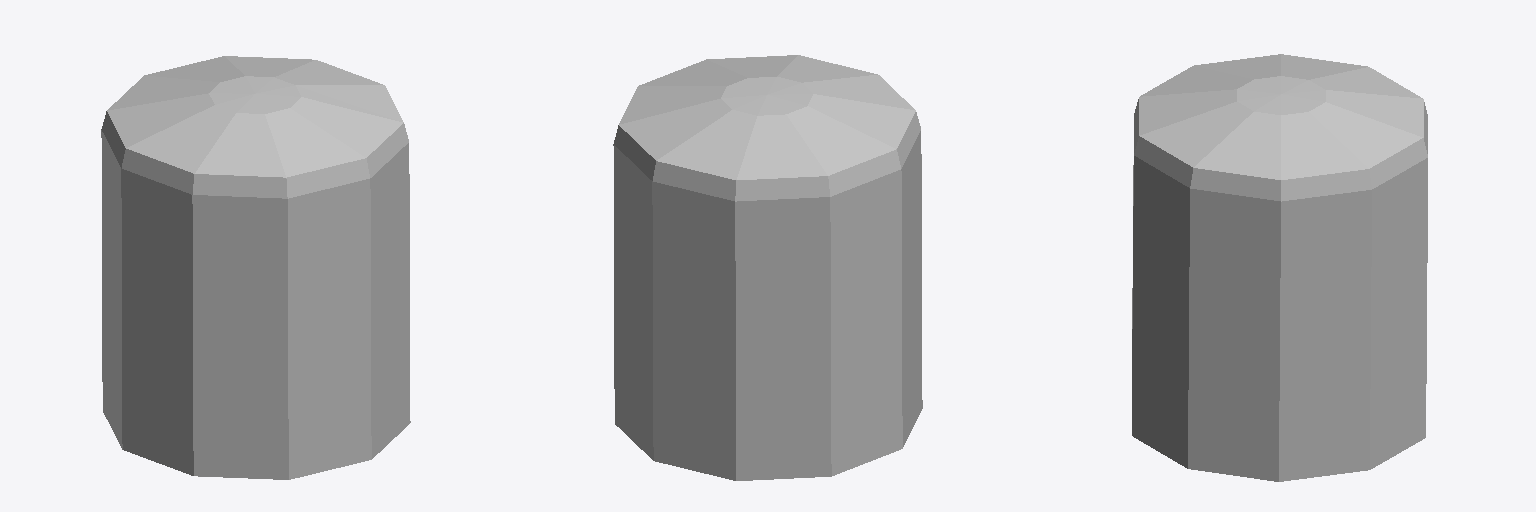
File: crystal_controller_right_button4.obj
3 renders of one model, left to right at view 1: azimuth 30°, elevation 25°; view 2: azimuth 150°, elevation 25°; view 3: azimuth 270°, elevation 25°, orthographic.
Visible parts, largest first — view 1: crystal_controller_right_button4; view 2: crystal_controller_right_button4; view 3: crystal_controller_right_button4.
Boxes of the visible parts, x1=… form: crystal_controller_right_button4: x1=101, y1=56, x2=410, y2=479; crystal_controller_right_button4: x1=613, y1=55, x2=922, y2=480; crystal_controller_right_button4: x1=1132, y1=54, x2=1427, y2=481.
Size of the model in its own units: 0.01 by 0.0116 by 0.0096.